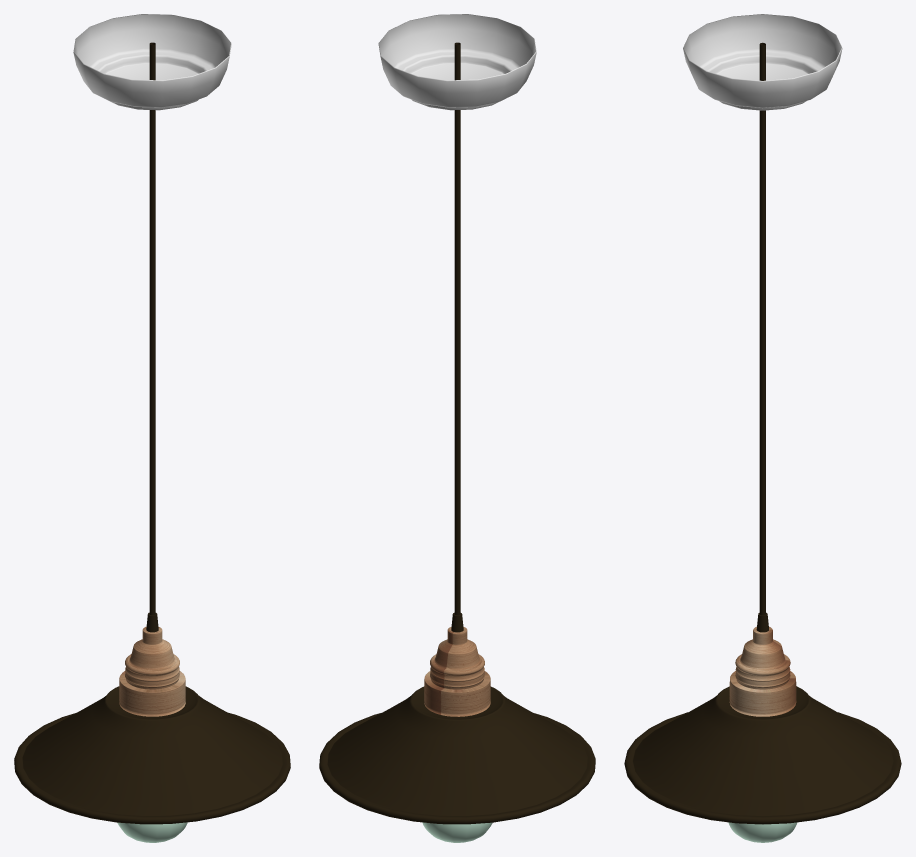
File: Lamp.fbx
The picture shows the model from 3 angles, left to right: view 1: azimuth 30°, elevation 25°; view 2: azimuth 150°, elevation 25°; view 3: azimuth 270°, elevation 25°; orthographic projection.
Parts seen in each view (by area): view 1: Line001, Line003, Cylinder, Line166; view 2: Line001, Line003, Cylinder, Line166; view 3: Line001, Line003, Cylinder, Line166.
Boxes of the visible parts, bbox=[...] form: Line001: bbox=[14, 626, 290, 824]; Line003: bbox=[73, 14, 231, 110]; Cylinder: bbox=[146, 42, 158, 632]; Line166: bbox=[117, 822, 187, 842]; Line001: bbox=[319, 626, 595, 824]; Line003: bbox=[378, 14, 536, 110]; Cylinder: bbox=[451, 42, 463, 632]; Line166: bbox=[422, 822, 492, 842]; Line001: bbox=[624, 626, 901, 824]; Line003: bbox=[683, 14, 842, 110]; Cylinder: bbox=[756, 42, 768, 632]; Line166: bbox=[728, 822, 797, 842].
Size of the model in its own units: 21.01 by 66.66 by 21.01.
7 materials, 1 textured.
